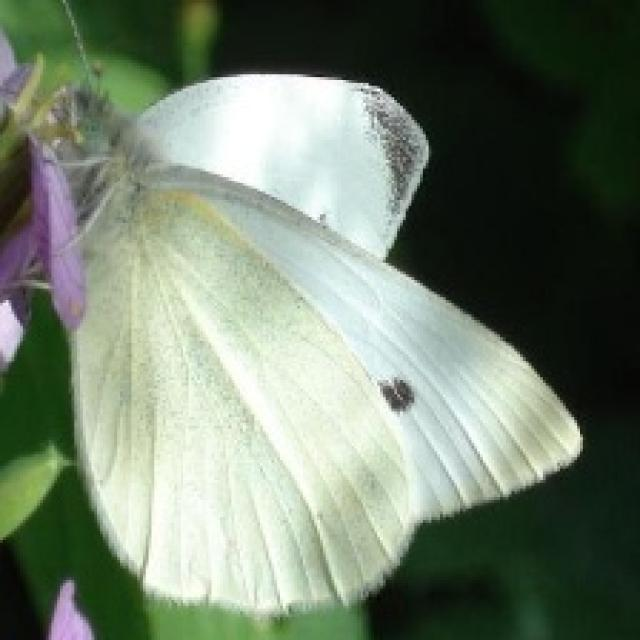butterfly: (0, 0, 583, 617)
